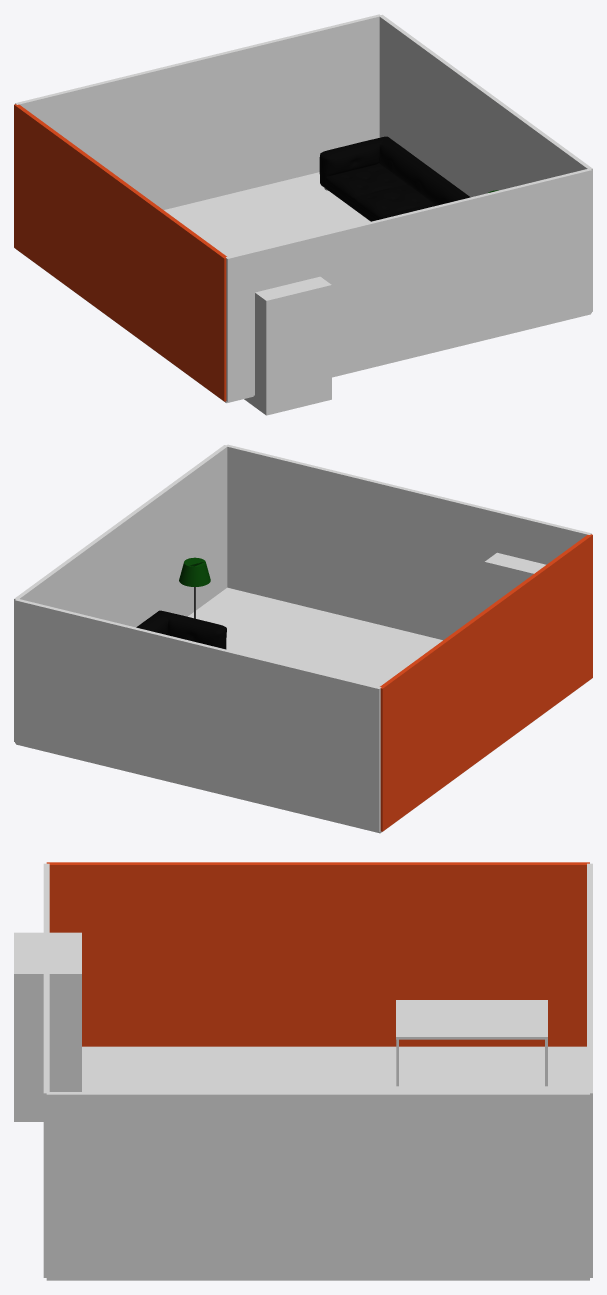
The model's file is fullScene.fbx.
The picture shows the model from 3 angles, top to bottom: view 1: azimuth 30°, elevation 25°; view 2: azimuth 150°, elevation 25°; view 3: azimuth 270°, elevation 25°; orthographic projection. The views are drawn at different scales.
Parts seen in each view (by area): view 1: Cube.003, Cube.004, Cube.002, Cube, door, Cube.001, Cube.008; view 2: Cube.004, Cube.003, Cube.002, Cube, Cube.001, Cube.008, door, Cylinder.002; view 3: Cube, Cube.002, Cube.001, door, Cube.005, Cube.003, Cube.004.
Part boxes in pixels (left/top/right/bottom): Cube.003: left=226, top=169, right=591, bottom=401; Cube.004: left=15, top=14, right=379, bottom=209; Cube.002: left=14, top=104, right=226, bottom=401; Cube: left=379, top=14, right=592, bottom=311; door: left=244, top=276, right=331, bottom=415; Cube.001: left=19, top=172, right=590, bottom=403; Cube.008: left=319, top=136, right=470, bottom=221; Cube.004: left=15, top=599, right=381, bottom=831; Cube.003: left=227, top=444, right=591, bottom=640; Cube.002: left=380, top=534, right=592, bottom=831; Cube: left=14, top=445, right=227, bottom=741; Cube.001: left=16, top=587, right=589, bottom=833; Cube.008: left=136, top=610, right=226, bottom=649; door: left=484, top=552, right=545, bottom=609; Cylinder.002: left=179, top=557, right=210, bottom=586; Cube: left=46, top=1092, right=589, bottom=1278; Cube.002: left=46, top=862, right=589, bottom=1046; Cube.001: left=46, top=1046, right=589, bottom=1280; door: left=14, top=932, right=81, bottom=1121; Cube.005: left=396, top=1000, right=547, bottom=1039; Cube.003: left=43, top=863, right=49, bottom=1277; Cube.004: left=587, top=863, right=592, bottom=1277.
Bounding box in the file's own units: 1618 × 650 × 1705.
